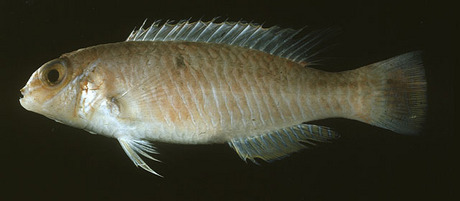fish: (19, 17, 429, 178)
